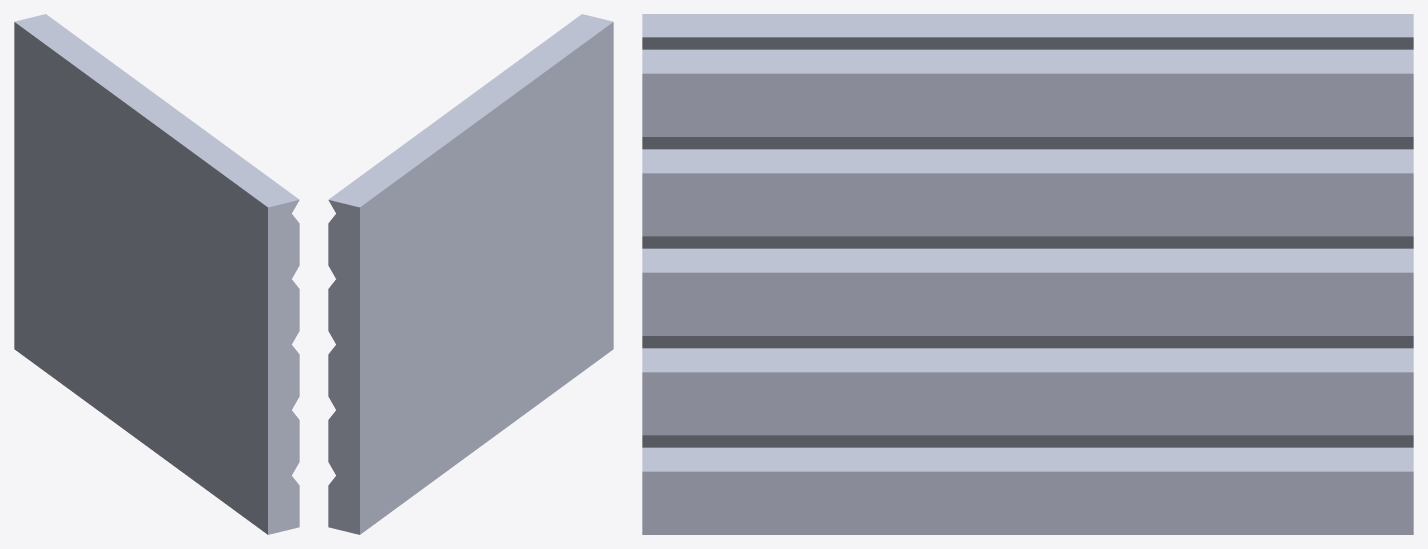
Rendered from spaceInterior_070.obj.
3 views of the same model, side by side, from view 1: azimuth 30°, elevation 25°; view 2: azimuth 150°, elevation 25°; view 3: azimuth 270°, elevation 25° (orthographic). The views are drawn at different scales.
Parts seen in each view (by area): view 1: Mesh1 Group1 Model; view 2: Mesh1 Group1 Model; view 3: Mesh1 Group1 Model.
Boxes of the visible parts, box(x1,y1,x2,y2) form: Mesh1 Group1 Model: box(14, 14, 299, 534); Mesh1 Group1 Model: box(328, 14, 613, 534); Mesh1 Group1 Model: box(642, 14, 1413, 534).
Bounding box in the file's own units: 0.0625 × 0.6176 × 0.8676.
